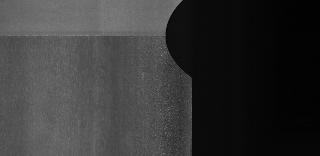welding line: (0, 31, 172, 45)
